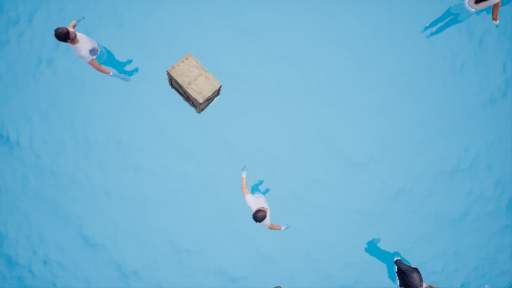person: (53, 23, 146, 94), (362, 233, 440, 288), (229, 169, 289, 230)
